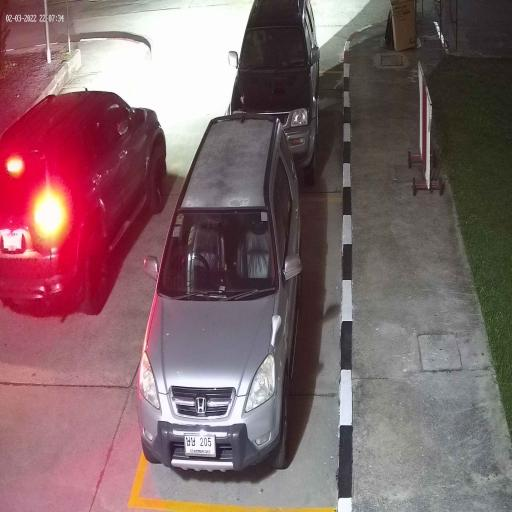car: (137, 114, 300, 472), (0, 91, 166, 313), (229, 0, 321, 183)
